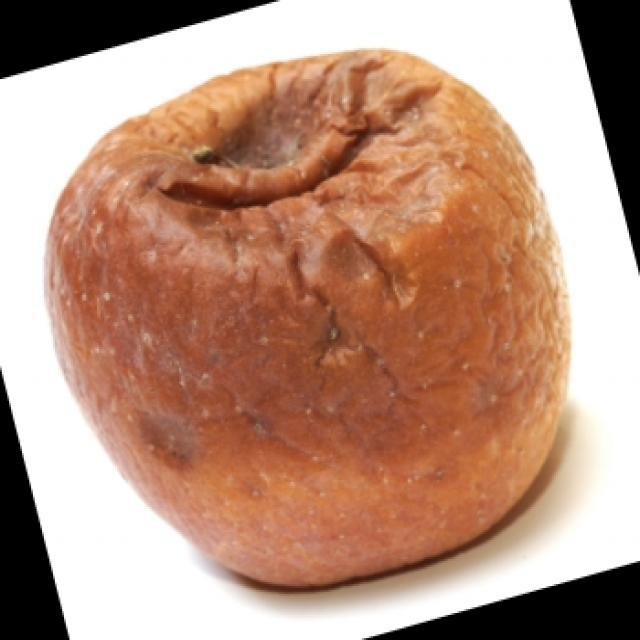Rotten: (41, 42, 582, 584)
